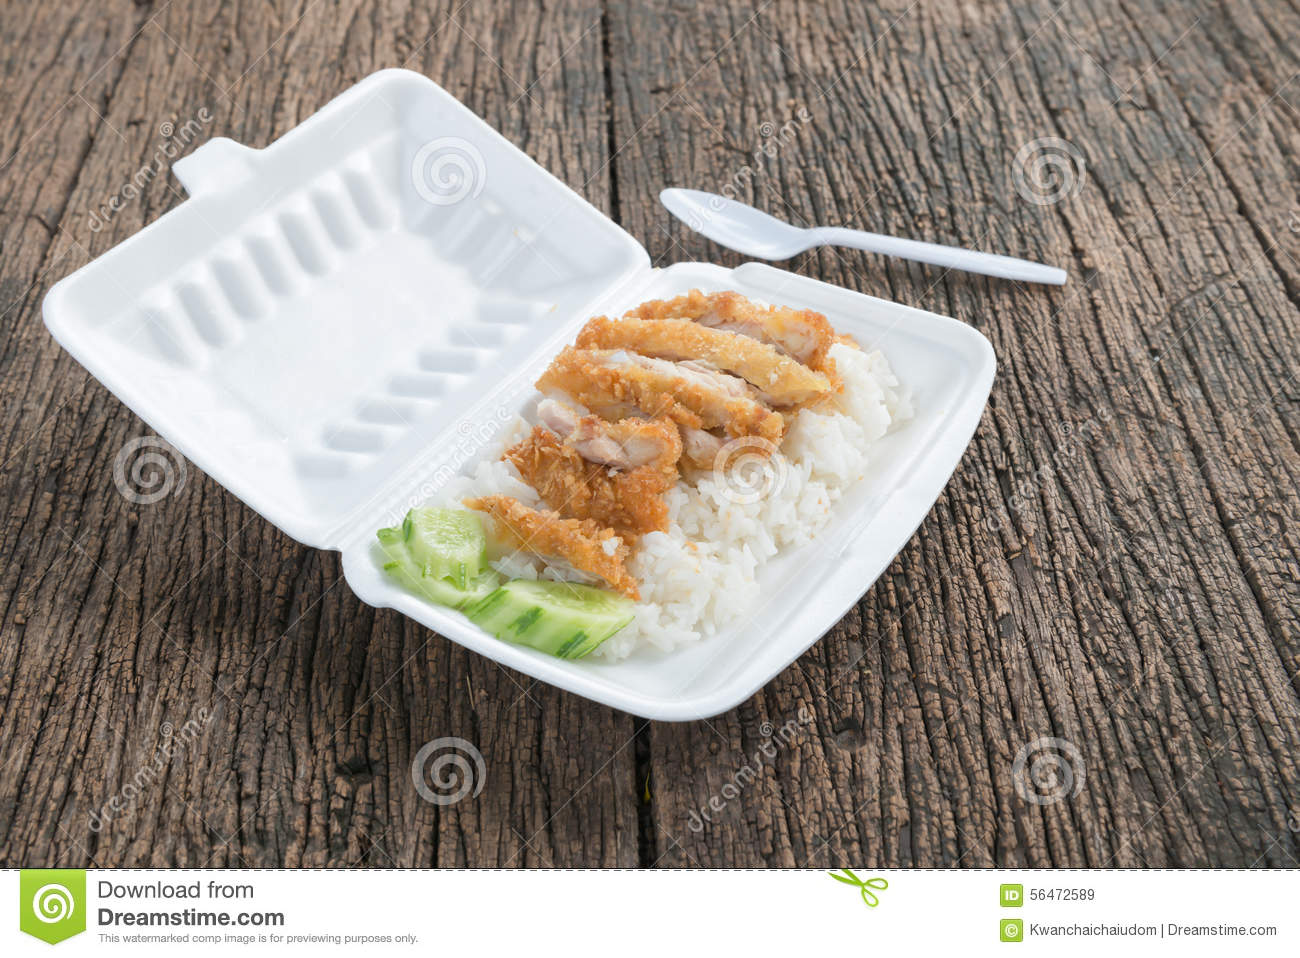Foam Box: (32, 59, 1014, 730)
